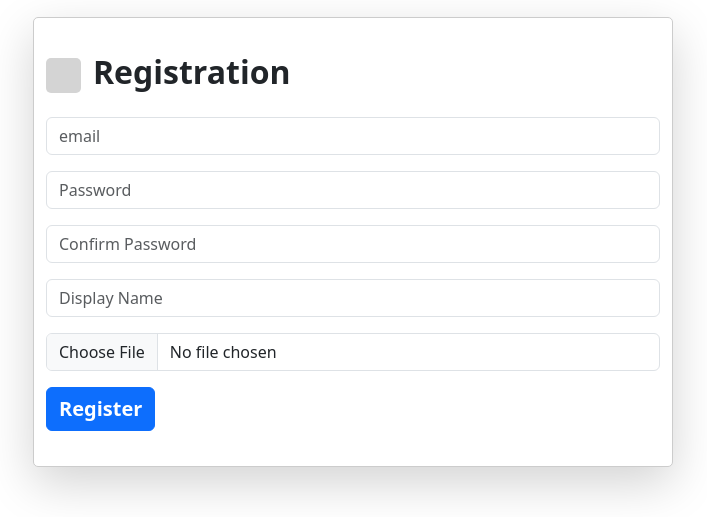
Test case: Registration Component › displays error if fields are missing
The width and height of the screenshot is (707, 517).
Click the button "Register".
click(101, 409)  # box [46,387,155,431]
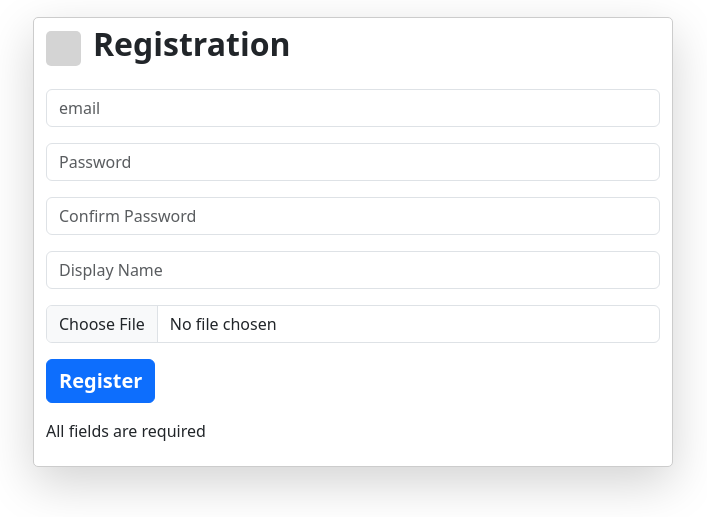
expect the text "All fields are required" is shown: met, box [46,420,206,442]
